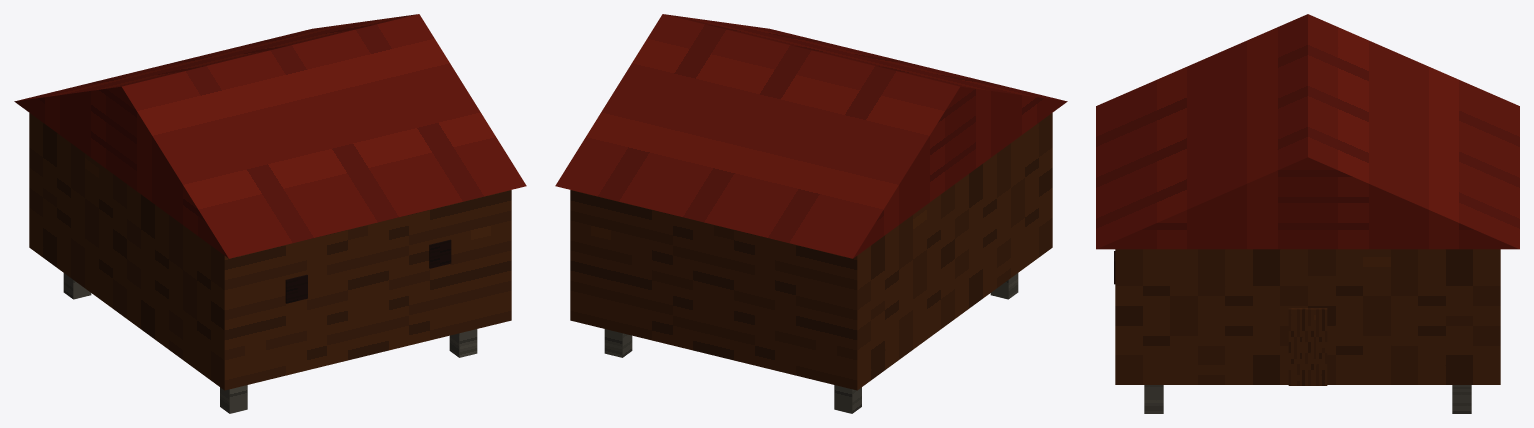
The model's file is granero.glb.
The picture shows the model from 3 angles, left to right: view 1: azimuth 30°, elevation 25°; view 2: azimuth 150°, elevation 25°; view 3: azimuth 270°, elevation 25°; orthographic projection.
Visible parts, largest first — view 1: tejado, paredes, pilotes, ventanas; view 2: tejado, paredes, pilotes; view 3: tejado, paredes, puerta, pilotes.
Part boxes in pixels (box(x1,y1,x2,y2)): tejado: box(14, 14, 526, 258); paredes: box(29, 113, 511, 390); pilotes: box(63, 273, 477, 413); ventanas: box(285, 239, 451, 303); tejado: box(555, 14, 1067, 258); paredes: box(570, 113, 1052, 390); pilotes: box(604, 273, 1018, 413); tejado: box(1096, 14, 1519, 249); paredes: box(1115, 249, 1500, 384); puerta: box(1288, 308, 1327, 385); pilotes: box(1144, 385, 1471, 413).
Bounding box in the file's own units: 8 × 7 × 10.
Materials: 1 (1 with a texture image).
